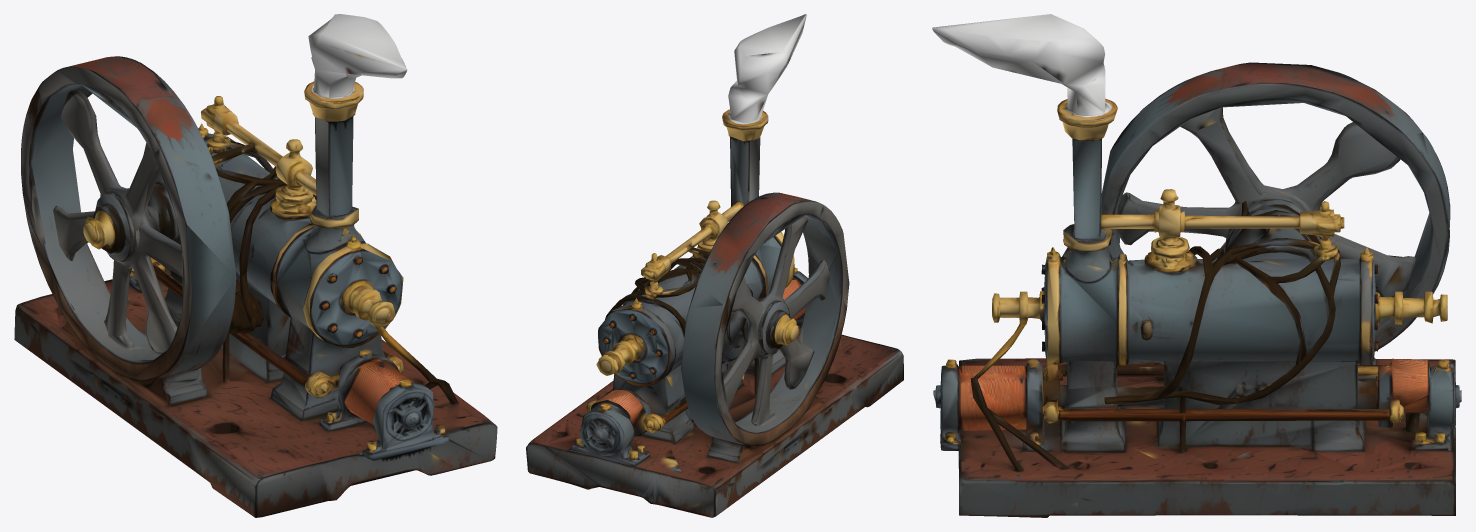
File: lhi_steam_engine.glb
3 views of the same model, side by side, from view 1: azimuth 30°, elevation 25°; view 2: azimuth 150°, elevation 25°; view 3: azimuth 270°, elevation 25° (orthographic). The views are drawn at different scales.
Visible parts, largest first — view 1: material; view 2: material; view 3: material.
Boxes of the visible parts, left/top/right/bottom form: material: left=14, top=14, right=497, bottom=517; material: left=526, top=14, right=903, bottom=517; material: left=932, top=14, right=1461, bottom=517.
Bounding box in the file's own units: 0.4804 × 0.7674 × 0.8332.
Materials: 1 (1 with a texture image).
